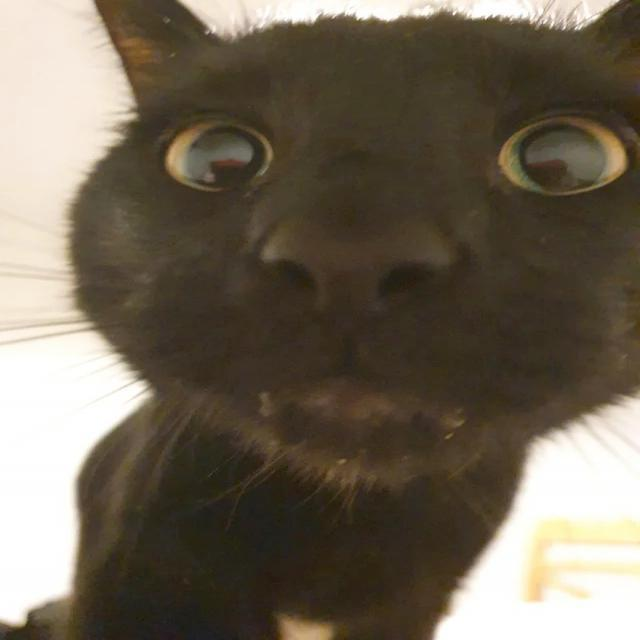da khoe manh: (0, 83, 550, 555)
